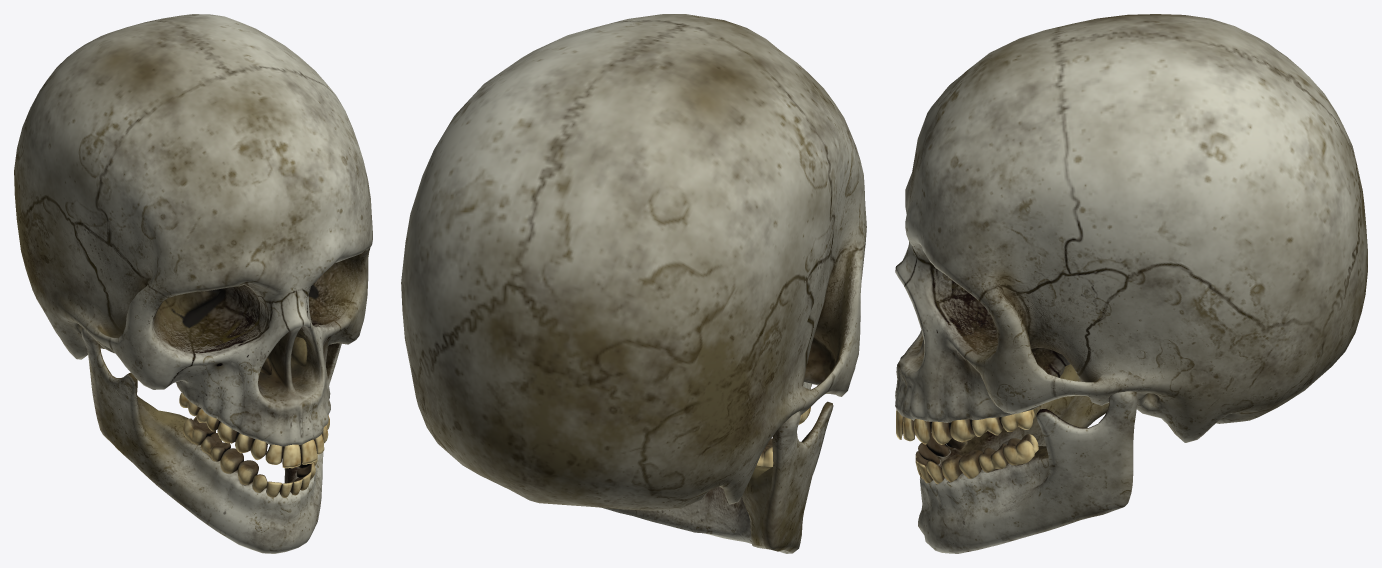
The model's file is skull.glb.
The picture shows the model from 3 angles, left to right: view 1: azimuth 30°, elevation 25°; view 2: azimuth 150°, elevation 25°; view 3: azimuth 270°, elevation 25°; orthographic projection. The views are drawn at different scales.
Parts seen in each view (by area): view 1: retopo upper.005, retopo lower, 1incisor tooth, molar tooth2.001, shikotu, molar tooth1.001, premolar tooth1.001, 2incisor tooth2, premlar tooth2.001, canine tooth.001; view 2: retopo upper.005, retopo lower; view 3: retopo upper.005, retopo lower, molar tooth2.001, premolar tooth1.001.
Boxes of the visible parts, x1,y1,x2,y2 form: retopo upper.005: (14,14,372,446); retopo lower: (81,328,341,553); 1incisor tooth: (282,439,317,468); molar tooth2.001: (183,416,215,445); shikotu: (260,336,307,375); molar tooth1.001: (201,433,230,461); premolar tooth1.001: (237,455,317,484); 2incisor tooth2: (265,434,324,464); premlar tooth2.001: (220,448,243,473); canine tooth.001: (252,462,315,492); retopo upper.005: (401,14,866,510); retopo lower: (602,401,833,553); retopo upper.005: (895,14,1367,442); retopo lower: (918,364,1137,553); molar tooth2.001: (1002,434,1038,465); premolar tooth1.001: (941,437,966,482).
Size of the model in its own units: 1.7 by 2.76 by 2.33.
3 materials, 3 textured.
